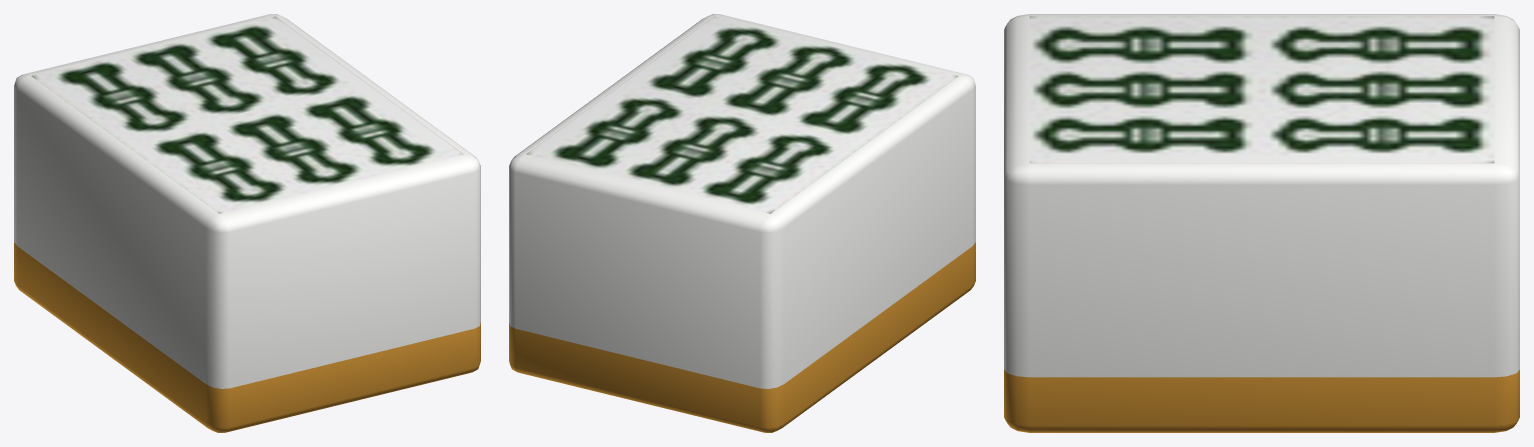
3 renders of one model, left to right at view 1: azimuth 30°, elevation 25°; view 2: azimuth 150°, elevation 25°; view 3: azimuth 270°, elevation 25°, orthographic. The views are drawn at different scales.
Visible parts, largest first — view 1: hai; view 2: hai; view 3: hai.
Part boxes in pixels (x1,y1,x2,y2): hai: [14, 14, 480, 432]; hai: [509, 14, 975, 432]; hai: [1004, 14, 1519, 432].
Bounding box in the file's own units: 420 × 320 × 560.
Materials: 3 (1 with a texture image).
